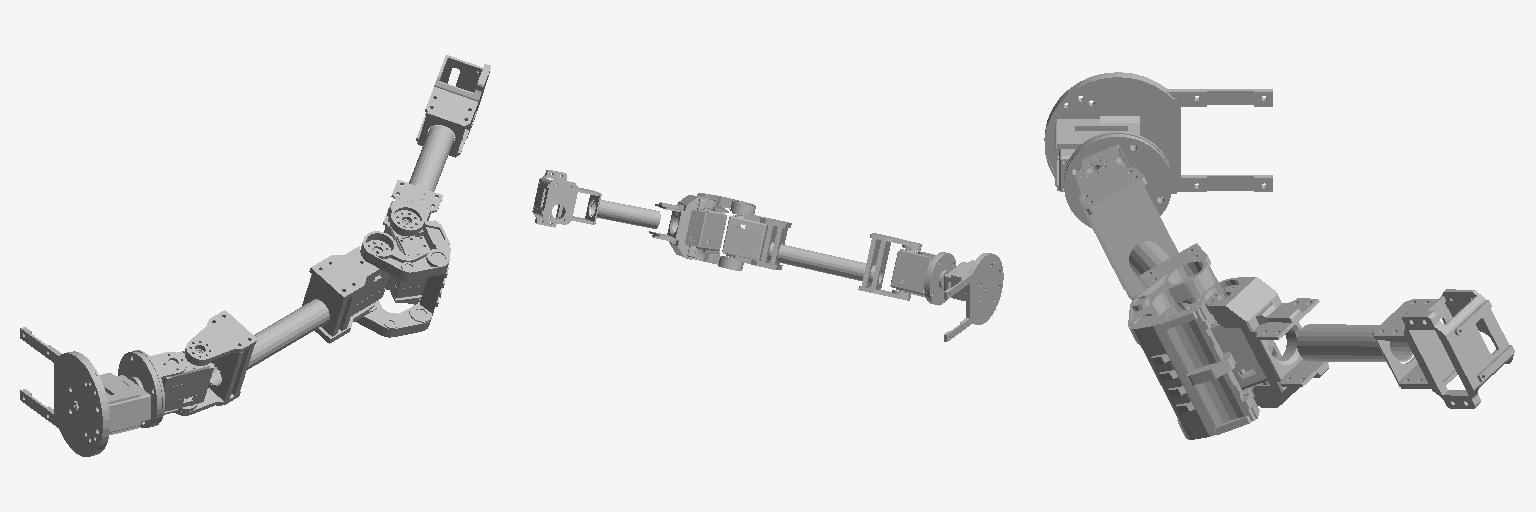
The robot description file, URDF, robot "机械臂1":
<?xml version="1.0" encoding="utf-8"?>
<!-- This URDF was automatically created by SolidWorks to URDF Exporter! Originally created by Stephen Brawner (brawner@gmail.com) 
     Commit Version: 1.6.0-4-g7f85cfe  Build Version: 1.6.7995.38578
     For more information, please see http://wiki.ros.org/sw_urdf_exporter -->
<robot
  name="机械臂1">
  <link
    name="base_link">
    <inertial>
      <origin
        xyz="0.01387 -0.046307 0.082791"
        rpy="0 0 0" />
      <mass
        value="0.054017" />
      <inertia
        ixx="2.8065E-05"
        ixy="-3.1714E-09"
        ixz="-1.5799E-06"
        iyy="2.1304E-05"
        iyz="-6.5701E-09"
        izz="1.2465E-05" />
    </inertial>
    <visual>
      <origin
        xyz="0 0 0"
        rpy="0 0 0" />
      <geometry>
        <mesh
          filename="package://机械臂1/meshes/base_link.STL" />
      </geometry>
      <material
        name="">
        <color
          rgba="0.75294 0.75294 0.75294 1" />
      </material>
    </visual>
    <collision>
      <origin
        xyz="0 0 0"
        rpy="0 0 0" />
      <geometry>
        <mesh
          filename="package://机械臂1/meshes/base_link.STL" />
      </geometry>
    </collision>
  </link>
  <link
    name="Link1">
    <inertial>
      <origin
        xyz="-0.0016574 -0.00077178 0.025281"
        rpy="0 0 0" />
      <mass
        value="0.044828" />
      <inertia
        ixx="7.5478E-06"
        ixy="-1.8795E-07"
        ixz="-2.5749E-08"
        iyy="7.8637E-06"
        iyz="-1.1918E-08"
        izz="8.0206E-06" />
    </inertial>
    <visual>
      <origin
        xyz="0 0 0"
        rpy="0 0 0" />
      <geometry>
        <mesh
          filename="package://机械臂1/meshes/Link1.STL" />
      </geometry>
      <material
        name="">
        <color
          rgba="0.75294 0.75294 0.75294 1" />
      </material>
    </visual>
    <collision>
      <origin
        xyz="0 0 0"
        rpy="0 0 0" />
      <geometry>
        <mesh
          filename="package://机械臂1/meshes/Link1.STL" />
      </geometry>
    </collision>
  </link>
  <joint
    name="j1"
    type="revolute">
    <origin
      xyz="0.0466 -0.078476 -0.046289"
      rpy="0 1.5708 0" />
    <parent
      link="base_link" />
    <child
      link="Link1" />
    <axis
      xyz="0 0 -1" />
    <limit
      lower="0"
      upper="0"
      effort="0"
      velocity="0" />
  </joint>
  <link
    name="Link2">
    <inertial>
      <origin
        xyz="-0.034855 0.018846 0.10687"
        rpy="0 0 0" />
      <mass
        value="0.079744" />
      <inertia
        ixx="2.0738E-05"
        ixy="4.3117E-07"
        ixz="1.2607E-06"
        iyy="2.0011E-05"
        iyz="-2.7108E-06"
        izz="1.0954E-05" />
    </inertial>
    <visual>
      <origin
        xyz="0 0 0"
        rpy="0 0 0" />
      <geometry>
        <mesh
          filename="package://机械臂1/meshes/Link2.STL" />
      </geometry>
      <material
        name="">
        <color
          rgba="0.75294 0.75294 0.75294 1" />
      </material>
    </visual>
    <collision>
      <origin
        xyz="0 0 0"
        rpy="0 0 0" />
      <geometry>
        <mesh
          filename="package://机械臂1/meshes/Link2.STL" />
      </geometry>
    </collision>
  </link>
  <joint
    name="j2"
    type="revolute">
    <origin
      xyz="0.025109 0.011696 0.0466"
      rpy="0 0 0" />
    <parent
      link="Link1" />
    <child
      link="Link2" />
    <axis
      xyz="-0.90648 -0.42225 0" />
    <limit
      lower="0"
      upper="0"
      effort="0"
      velocity="0" />
  </joint>
  <link
    name="Link3">
    <inertial>
      <origin
        xyz="0.024435 0.0089288 0.030317"
        rpy="0 0 0" />
      <mass
        value="0.062184" />
      <inertia
        ixx="2.207E-05"
        ixy="-4.9857E-06"
        ixz="4.0101E-07"
        iyy="3.0246E-05"
        iyz="-9.0419E-07"
        izz="2.8475E-05" />
    </inertial>
    <visual>
      <origin
        xyz="0 0 0"
        rpy="0 0 0" />
      <geometry>
        <mesh
          filename="package://机械臂1/meshes/Link3.STL" />
      </geometry>
      <material
        name="">
        <color
          rgba="0.75294 0.75294 0.75294 1" />
      </material>
    </visual>
    <collision>
      <origin
        xyz="0 0 0"
        rpy="0 0 0" />
      <geometry>
        <mesh
          filename="package://机械臂1/meshes/Link3.STL" />
      </geometry>
    </collision>
  </link>
  <joint
    name="j3"
    type="revolute">
    <origin
      xyz="-0.067934 0.025532 0.17282"
      rpy="0 0 0" />
    <parent
      link="Link2" />
    <child
      link="Link3" />
    <axis
      xyz="-0.90648 -0.42225 0" />
    <limit
      lower="0"
      upper="0"
      effort="0"
      velocity="0" />
  </joint>
  <link
    name="Link4">
    <inertial>
      <origin
        xyz="-0.049942 0.038386 0.052105"
        rpy="0 0 0" />
      <mass
        value="0.041906" />
      <inertia
        ixx="1.5208E-05"
        ixy="-1.9177E-06"
        ixz="1.4624E-06"
        iyy="1.8649E-05"
        iyz="-3.1569E-06"
        izz="1.9687E-05" />
    </inertial>
    <visual>
      <origin
        xyz="0 0 0"
        rpy="0 0 0" />
      <geometry>
        <mesh
          filename="package://机械臂1/meshes/Link4.STL" />
      </geometry>
      <material
        name="">
        <color
          rgba="0.75294 0.75294 0.75294 1" />
      </material>
    </visual>
    <collision>
      <origin
        xyz="0 0 0"
        rpy="0 0 0" />
      <geometry>
        <mesh
          filename="package://机械臂1/meshes/Link4.STL" />
      </geometry>
    </collision>
  </link>
  <joint
    name="j4"
    type="revolute">
    <origin
      xyz="0.042971 0.040611 0.033065"
      rpy="0 0 0" />
    <parent
      link="Link3" />
    <child
      link="Link4" />
    <axis
      xyz="0.90648 0.42225 0" />
    <limit
      lower="0"
      upper="0"
      effort="0"
      velocity="0" />
  </joint>
</robot>

--- Facts derived from the render (not from the file) ---
Views: 3 orthographic renders of the robot side by side, from view 1: azimuth 30°, elevation 25°; view 2: azimuth 150°, elevation 25°; view 3: azimuth 270°, elevation 25°.
Model 机械臂1 with 5 links and 4 joints (4 revolute), rooted at base_link, posed all joints at 0.
Links seen in each view (by area): view 1: Link2, base_link, Link4, Link3, Link1; view 2: Link2, Link4, base_link, Link1, Link3; view 3: Link4, Link3, base_link, Link2, Link1.
Boxes of the visible links, x1=… form: Link2: x1=174, y1=246, x2=389, y2=415; base_link: x1=20, y1=327, x2=150, y2=456; Link4: x1=383, y1=55, x2=490, y2=289; Link3: x1=355, y1=220, x2=450, y2=337; Link1: x1=118, y1=350, x2=213, y2=427; Link2: x1=722, y1=214, x2=921, y2=300; Link4: x1=532, y1=170, x2=717, y2=260; base_link: x1=944, y1=253, x2=1003, y2=341; Link1: x1=890, y1=249, x2=955, y2=305; Link3: x1=685, y1=193, x2=755, y2=270; Link4: x1=1200, y1=277, x2=1514, y2=408; Link3: x1=1128, y1=259, x2=1281, y2=439; base_link: x1=1044, y1=72, x2=1272, y2=197; Link2: x1=1076, y1=158, x2=1218, y2=315; Link1: x1=1064, y1=131, x2=1171, y2=227.
Size in the robot's own frame: 0.4329 by 0.2391 by 0.1413 metres.
Meshes: 5 distinct files referenced, 5 mesh visuals loaded (5 binary STL).
